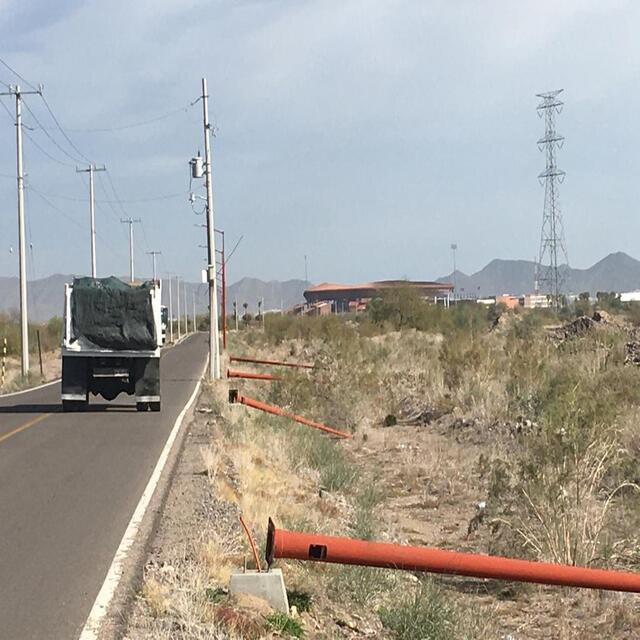Inclined Pole: (262, 511, 640, 599), (225, 387, 355, 439), (225, 355, 315, 371), (225, 366, 283, 381)
